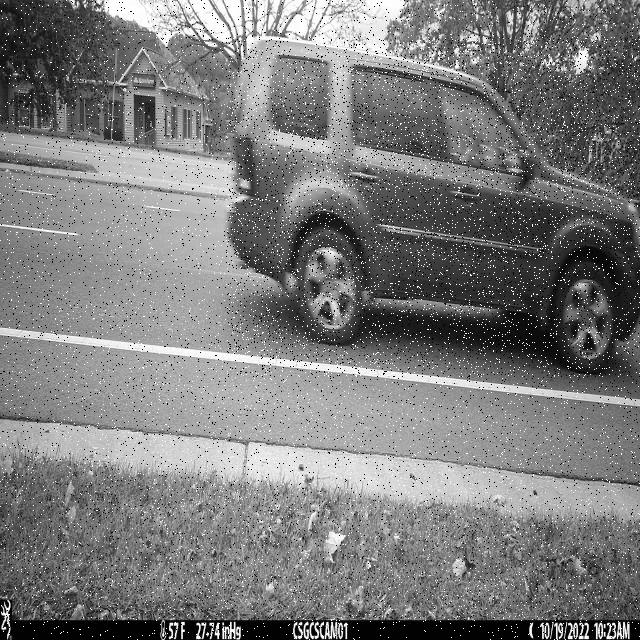SUV: (226, 37, 640, 377)
